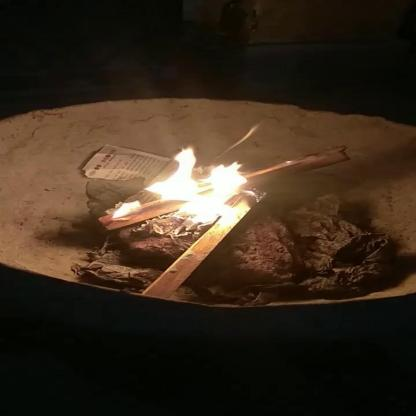fire: (92, 138, 274, 228)
